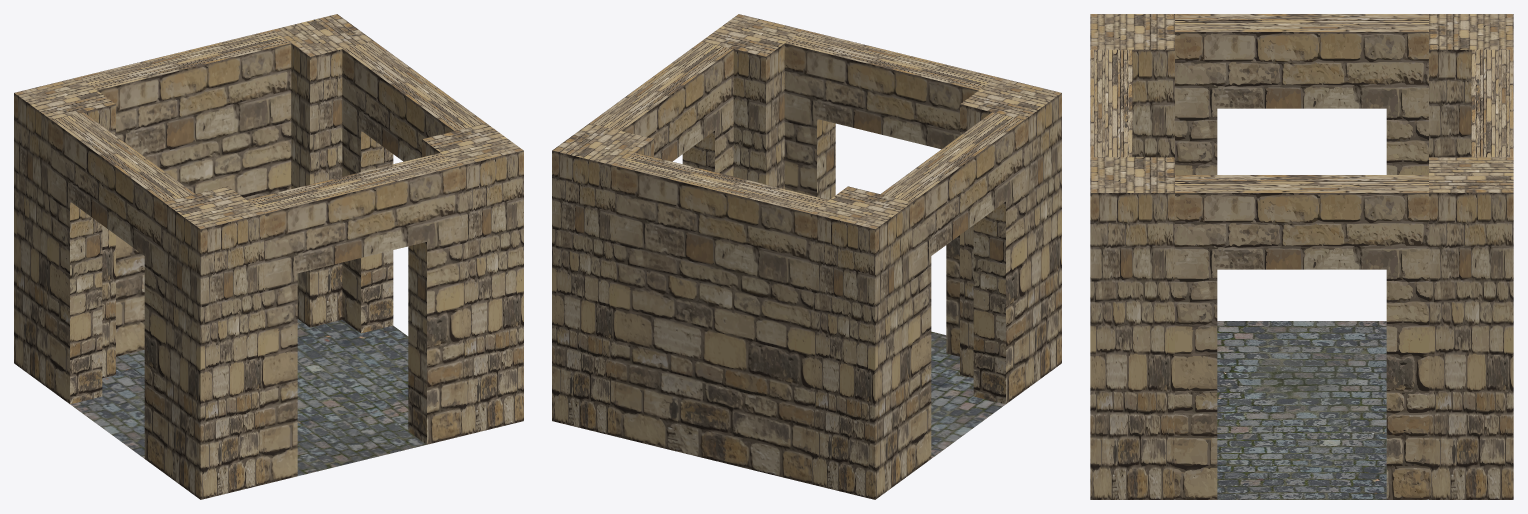
The model's file is 1_threeDoorBlock.fbx.
3 renders of one model, left to right at view 1: azimuth 30°, elevation 25°; view 2: azimuth 150°, elevation 25°; view 3: azimuth 270°, elevation 25°, orthographic. The views are drawn at different scales.
Parts seen in each view (by area): view 1: Cube_1, Plane; view 2: Cube_1, Plane; view 3: Cube_1, Plane.
Part boxes in pixels (box(x1,y1,x2,y2)): Cube_1: box(14, 14, 523, 499); Plane: box(70, 319, 426, 475); Cube_1: box(552, 14, 1061, 499); Plane: box(931, 331, 1005, 458); Cube_1: box(1090, 14, 1513, 499); Plane: box(1217, 321, 1386, 499).
Bounding box in the file's own units: 10 × 8 × 10.
Materials: 2 (2 with a texture image).
